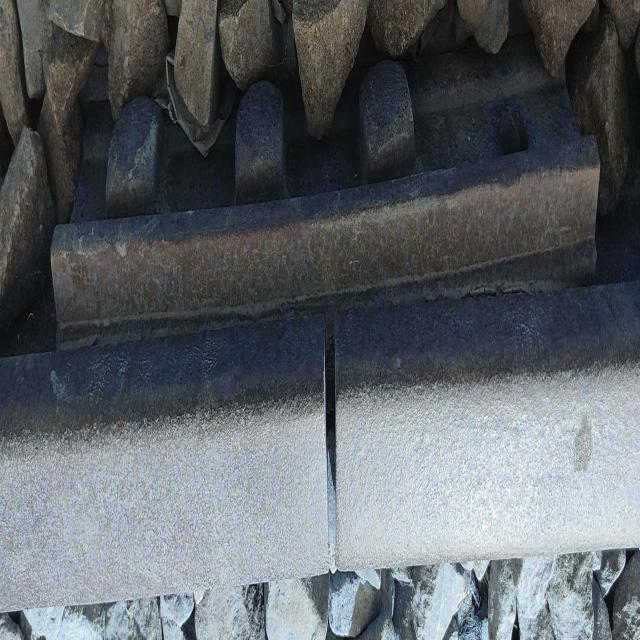Defective Joint: (50, 61, 597, 346)
